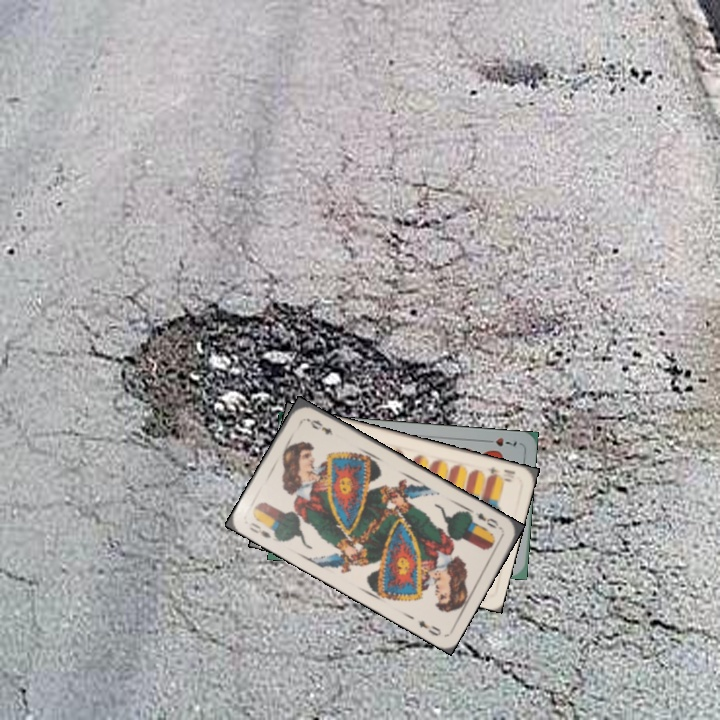E10: (483, 463, 514, 485)
EO: (471, 508, 504, 532), (245, 518, 274, 541)
H7: (480, 433, 519, 449)
